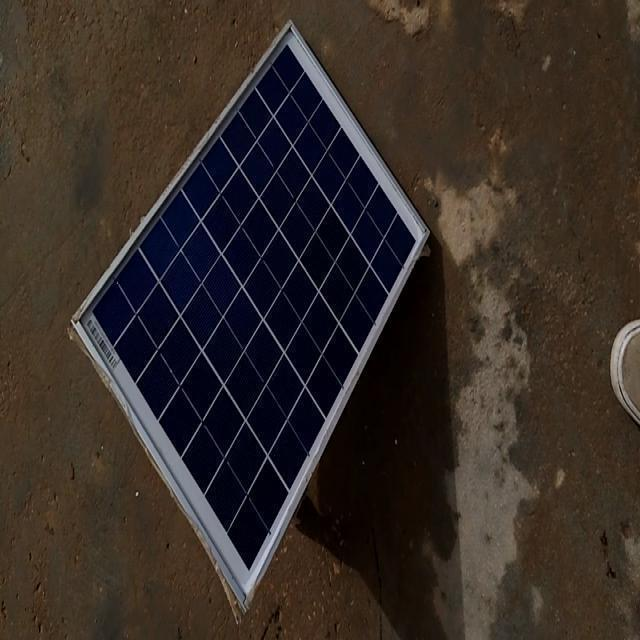Normal Solar Panel: (71, 20, 430, 611)
